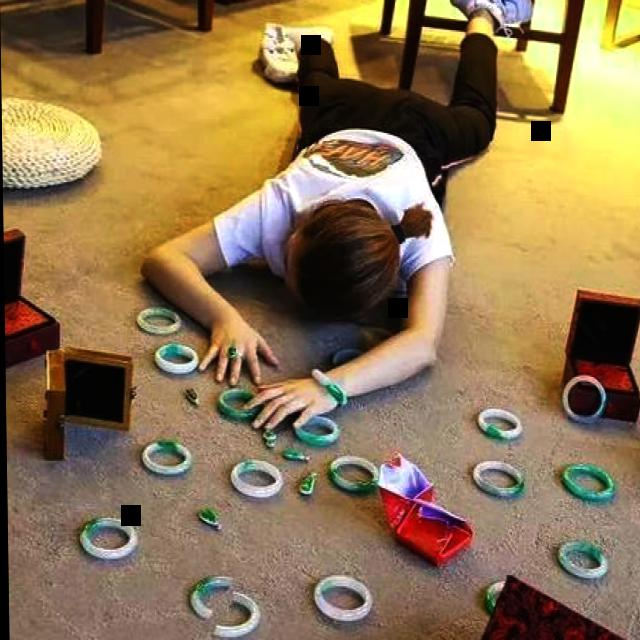Fall-Detected: (126, 0, 536, 464)
